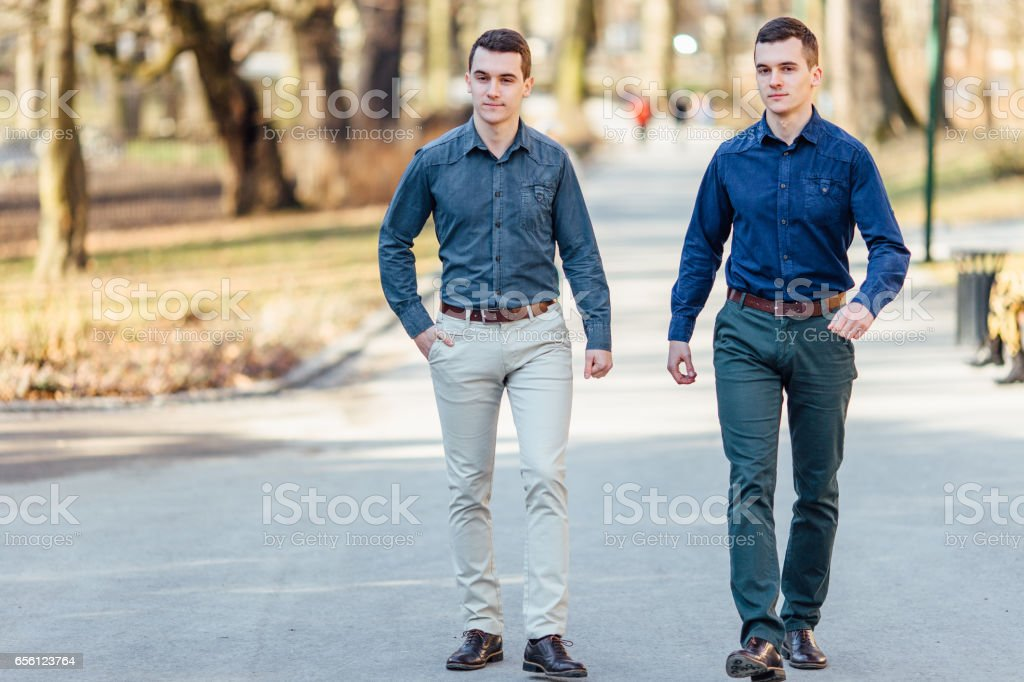person: (668, 17, 912, 682), (381, 29, 612, 674)
